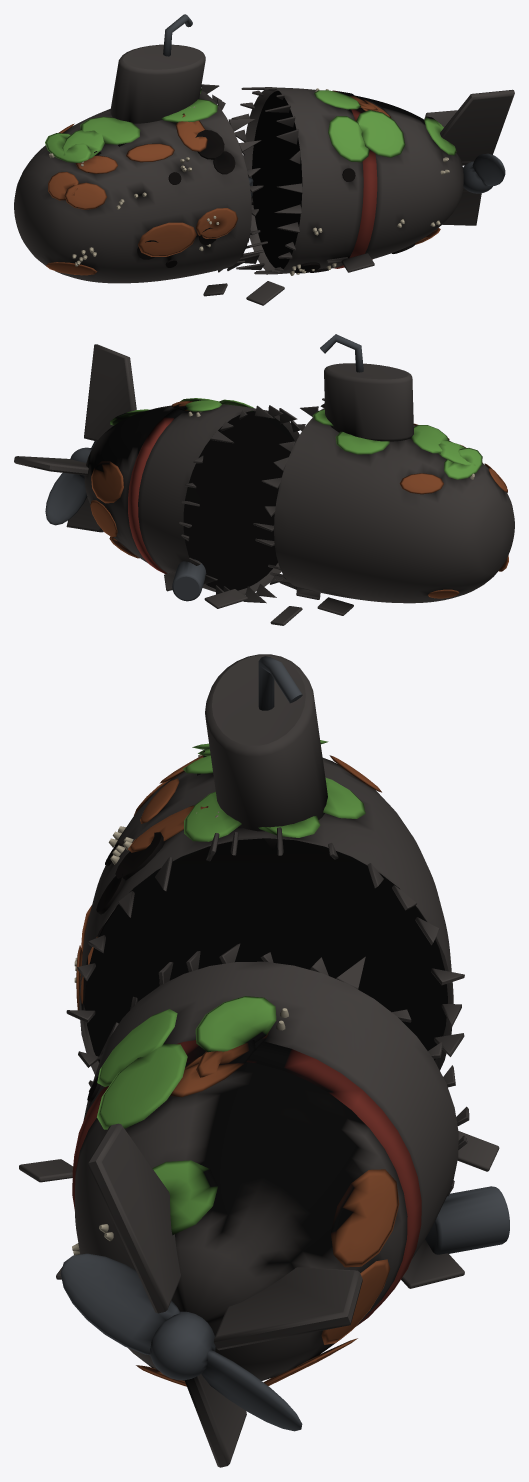
The model's file is wreck_sub.glb.
3 renders of one model, top to bottom at view 1: azimuth 30°, elevation 25°; view 2: azimuth 150°, elevation 25°; view 3: azimuth 270°, elevation 25°, orthographic. The views are drawn at different scales.
Visible parts, largest first — view 1: wreck_front, wreck_rear, wreck_debris, wreck_prop; view 2: wreck_front, wreck_rear, wreck_debris, wreck_prop; view 3: wreck_rear, wreck_front, wreck_prop, wreck_debris.
Part boxes in pixels (left/top/right/bottom): wreck_front: left=14, top=14, right=267, bottom=283; wreck_rear: left=231, top=87, right=514, bottom=275; wreck_debris: left=203, top=177, right=374, bottom=305; wreck_prop: left=463, top=153, right=505, bottom=193; wreck_front: left=253, top=334, right=514, bottom=603; wreck_rear: left=14, top=344, right=300, bottom=603; wreck_debris: left=164, top=559, right=353, bottom=625; wreck_prop: left=45, top=441, right=96, bottom=525; wreck_rear: left=72, top=943, right=469, bottom=1467; wreck_front: left=66, top=654, right=464, bottom=1086; wreck_prop: left=60, top=1253, right=302, bottom=1431; wreck_debris: left=19, top=1131, right=509, bottom=1288.
Bounding box in the file's own units: 10.81 × 6.18 × 4.98.
